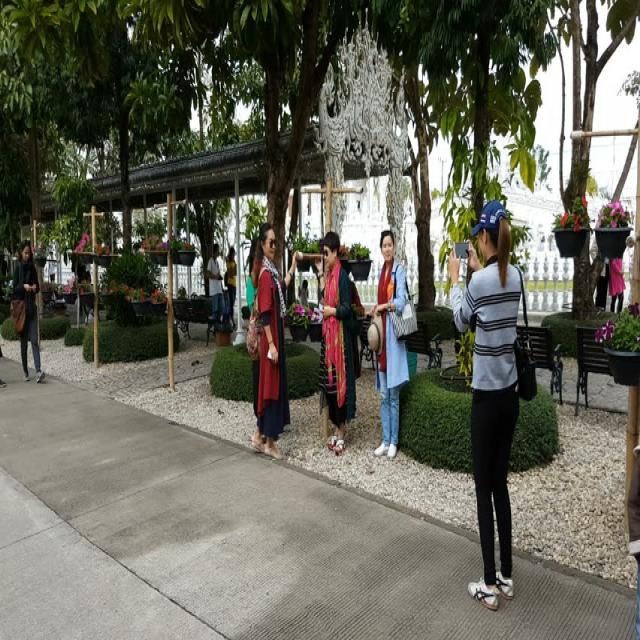body: (446, 196, 539, 613), (245, 220, 303, 461), (367, 228, 410, 460), (317, 229, 356, 452), (10, 237, 46, 387), (590, 236, 634, 321), (245, 235, 263, 420), (626, 441, 640, 640), (337, 258, 365, 334), (206, 243, 227, 325), (223, 245, 237, 332), (0, 341, 8, 389), (47, 250, 57, 286), (48, 251, 56, 284)
